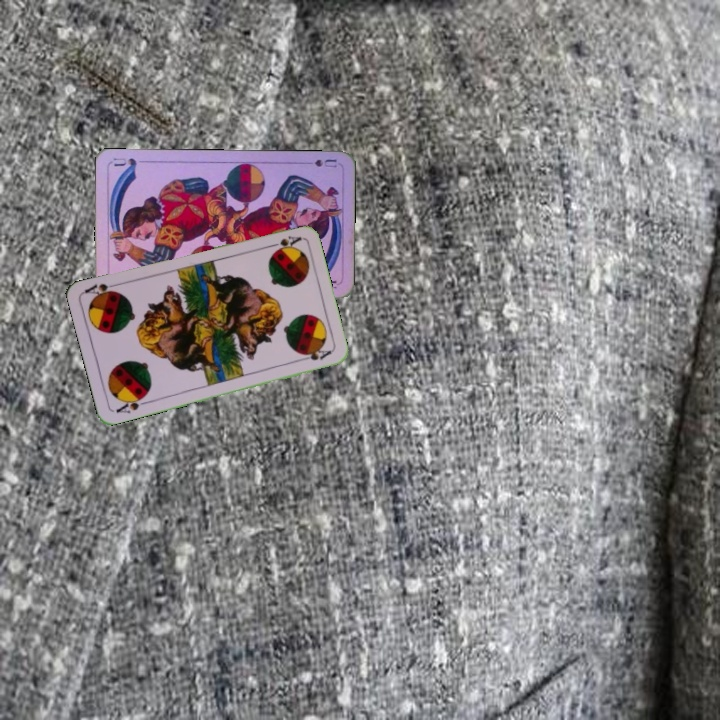SA: (112, 391, 151, 416), (263, 232, 304, 253)
SU: (299, 155, 339, 170)
